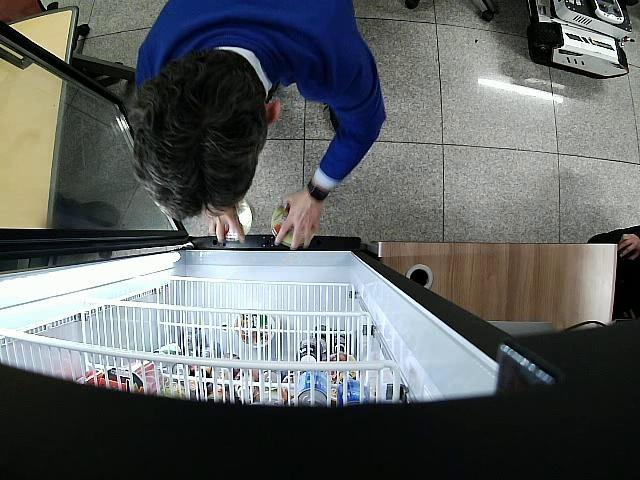03_chapagetti_L: (270, 200, 304, 246), (224, 197, 256, 242)
